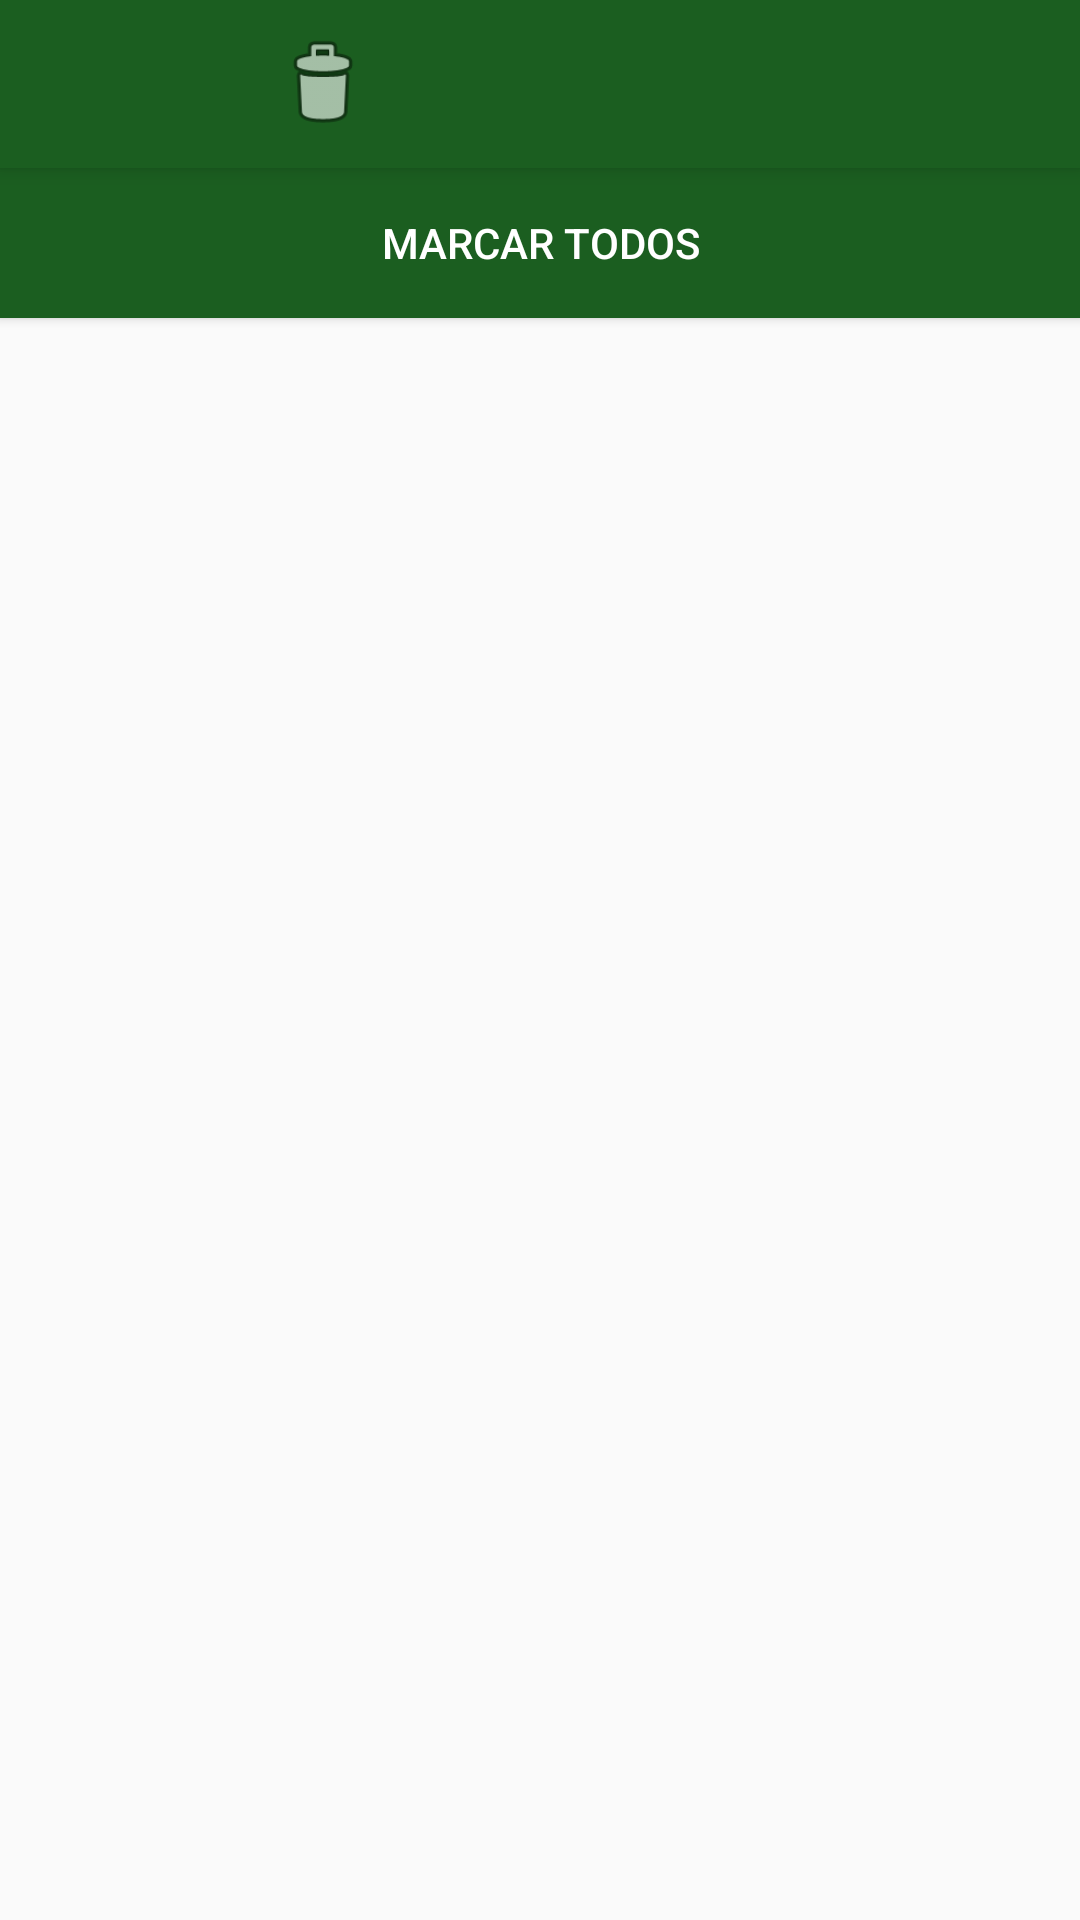

Icons on this 1080x1920 Android screen, each with the point to tap as (x,y):
delete: (323,81)
